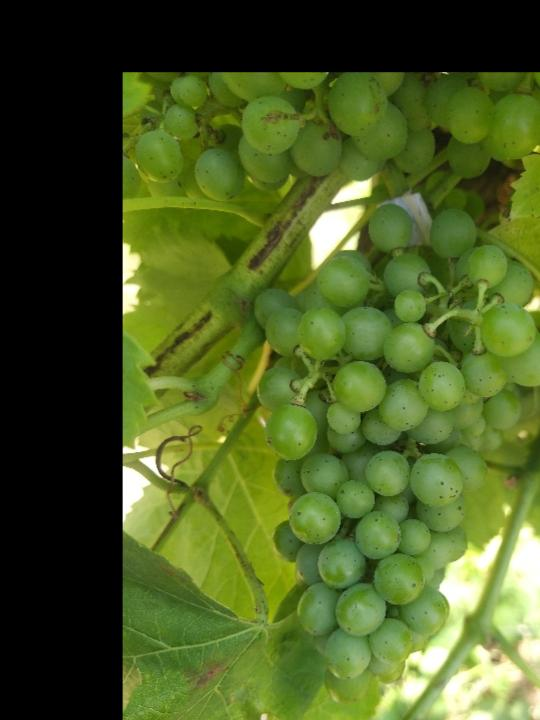grape: (256, 198, 540, 707)
